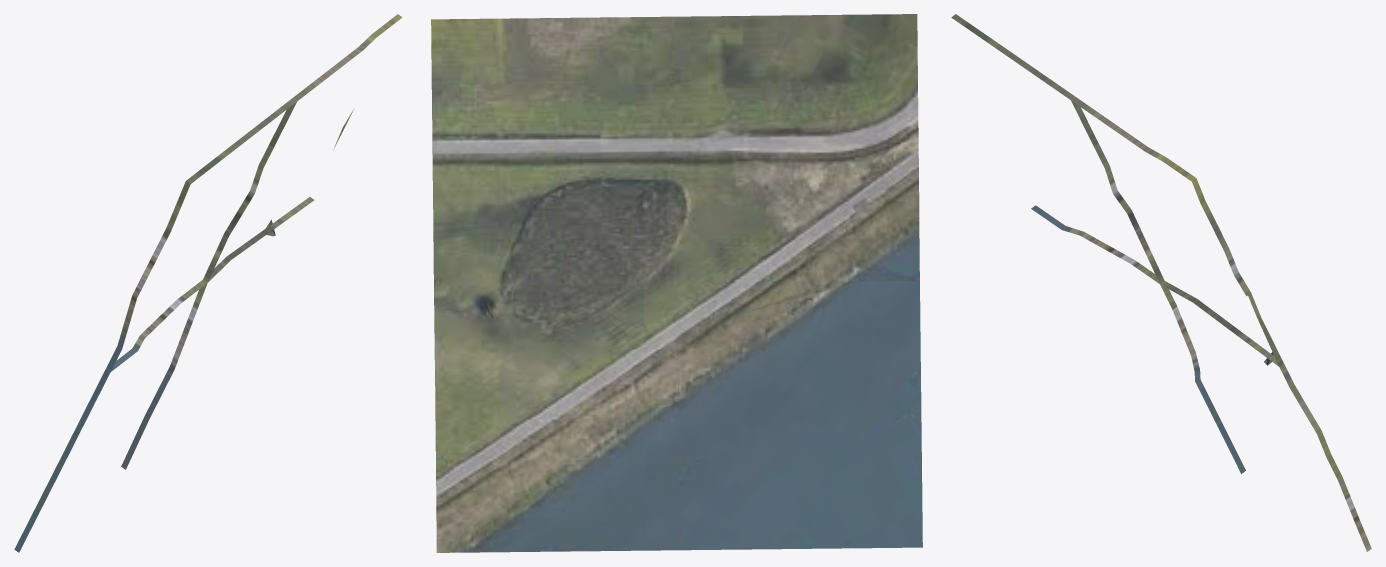
3 views of the same model, side by side, from view 1: azimuth 30°, elevation 25°; view 2: azimuth 150°, elevation 25°; view 3: azimuth 270°, elevation 25° (orthographic). The views are drawn at different scales.
Bounding box in the file's own units: 151 × 141 × 127.
Materials: 1 (1 with a texture image).
